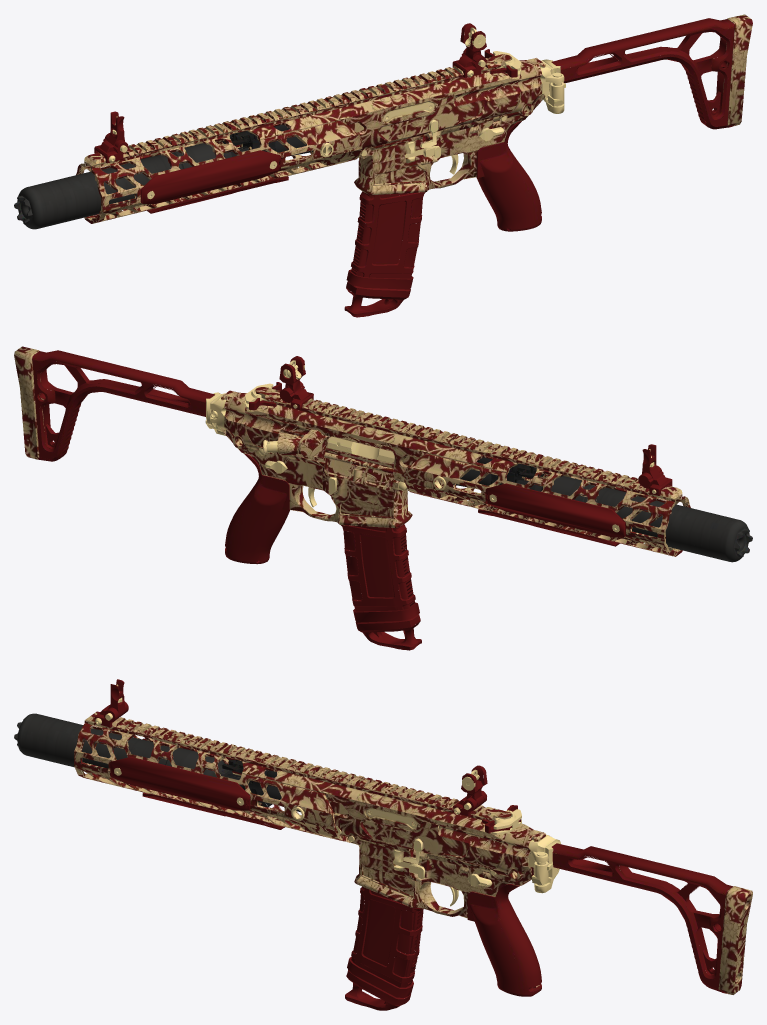
The model's file is weapon_fcxs.glb.
3 renders of one model, top to bottom at view 1: azimuth 30°, elevation 25°; view 2: azimuth 150°, elevation 25°; view 3: azimuth 330°, elevation 25°, orthographic.
Visible parts, largest first — view 1: main_frame_fcxs, rail_fcxs, stock_fcxs, magazine_fcxs, barrel_fcxs, grip_fcxs, rear_sight_fcxs, front_sight_fcxs, recoil_spring_guide_fcxs; view 2: main_frame_fcxs, rail_fcxs, stock_fcxs, magazine_fcxs, barrel_fcxs, grip_fcxs, rear_sight_fcxs, front_sight_fcxs, recoil_spring_guide_fcxs; view 3: main_frame_fcxs, rail_fcxs, stock_fcxs, magazine_fcxs, grip_fcxs, barrel_fcxs, rear_sight_fcxs, front_sight_fcxs, recoil_spring_guide_fcxs, reloader_fcxs.
Boxes of the visible parts, x1=… form: main_frame_fcxs: x1=229, y1=54, x2=545, y2=195; rail_fcxs: x1=76, y1=120, x2=362, y2=223; stock_fcxs: x1=540, y1=14, x2=752, y2=129; magazine_fcxs: x1=344, y1=157, x2=425, y2=317; barrel_fcxs: x1=14, y1=143, x2=231, y2=229; grip_fcxs: x1=470, y1=118, x2=541, y2=231; rear_sight_fcxs: x1=452, y1=23, x2=486, y2=77; front_sight_fcxs: x1=94, y1=111, x2=128, y2=163; recoil_spring_guide_fcxs: x1=222, y1=124, x2=313, y2=156; main_frame_fcxs: x1=221, y1=387, x2=536, y2=527; rail_fcxs: x1=404, y1=453, x2=690, y2=556; stock_fcxs: x1=14, y1=346, x2=226, y2=461; magazine_fcxs: x1=341, y1=515, x2=421, y2=650; barrel_fcxs: x1=534, y1=476, x2=752, y2=562; grip_fcxs: x1=225, y1=453, x2=289, y2=564; rear_sight_fcxs: x1=279, y1=356, x2=313, y2=410; front_sight_fcxs: x1=638, y1=444, x2=672, y2=495; recoil_spring_guide_fcxs: x1=443, y1=457, x2=544, y2=489; main_frame_fcxs: x1=227, y1=746, x2=545, y2=918; rail_fcxs: x1=74, y1=711, x2=349, y2=842; stock_fcxs: x1=528, y1=834, x2=752, y2=994; magazine_fcxs: x1=345, y1=839, x2=423, y2=1010; grip_fcxs: x1=467, y1=878, x2=541, y2=996; barrel_fcxs: x1=14, y1=713, x2=232, y2=777; rear_sight_fcxs: x1=453, y1=765, x2=487, y2=816; front_sight_fcxs: x1=94, y1=679, x2=128, y2=727; recoil_spring_guide_fcxs: x1=222, y1=759, x2=300, y2=812; reloader_fcxs: x1=482, y1=805, x2=521, y2=834.
Bounding box in the file's own units: 95.75 × 32.66 × 8.47.
Materials: 6 (6 with a texture image).
